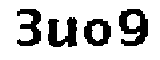3: (14, 4, 43, 55)
9: (118, 2, 152, 50)
o: (82, 15, 114, 52)
u: (47, 13, 80, 50)
